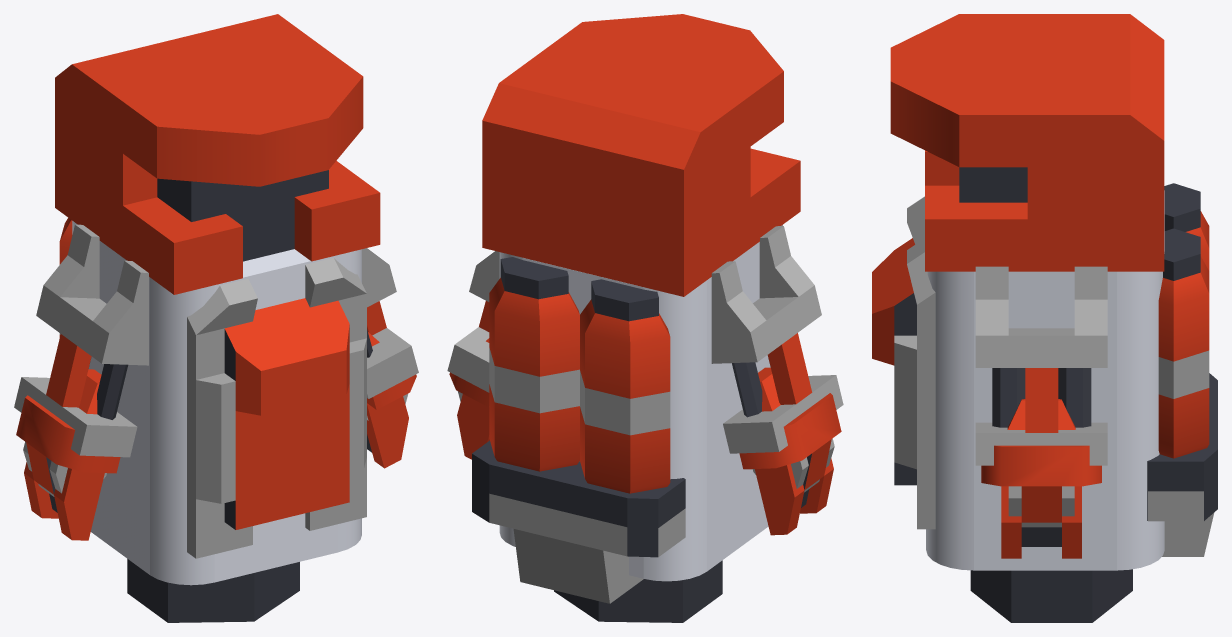
Rendered from Robot3.fbx.
The picture shows the model from 3 angles, left to right: view 1: azimuth 30°, elevation 25°; view 2: azimuth 150°, elevation 25°; view 3: azimuth 270°, elevation 25°; orthographic projection. The views are drawn at different scales.
Parts seen in each view (by area): view 1: head_knight, foot_skiLow, cylinderSquare, leg_pipes (×2), foot_double (×2), socket_large; view 2: head_knight, tank_doubleDetailed, cylinderSquare, pelvis_belt, leg_pipes (×2), foot_double (×2), socket_large; view 3: head_knight, cylinderSquare, leg_pipes, foot_skiLow, tank_doubleDetailed, foot_double, socket_large, pelvis_belt.
Part boxes in pixels (<box>): head_knight: <box>55,14,380,294</box>; foot_skiLow: <box>187,258,366,558</box>; cylinderSquare: <box>72,221,361,585</box>; leg_pipes (×2): <box>14,224,418,496</box>; foot_double (×2): <box>16,332,416,540</box>; socket_large: <box>127,559,299,622</box>; head_knight: <box>482,14,800,296</box>; tank_doubleDetailed: <box>489,257,670,493</box>; cylinderSquare: <box>499,225,782,581</box>; pelvis_belt: <box>472,440,685,603</box>; leg_pipes (×2): <box>447,226,843,492</box>; foot_double (×2): <box>449,338,841,535</box>; socket_large: <box>554,560,722,622</box>; head_knight: <box>890,14,1164,271</box>; cylinderSquare: <box>926,190,1164,570</box>; leg_pipes: <box>975,266,1107,527</box>; foot_skiLow: <box>872,196,935,529</box>; tank_doubleDetailed: <box>1158,183,1209,458</box>; foot_double: <box>981,399,1101,558</box>; socket_large: <box>970,569,1132,622</box>; pelvis_belt: <box>1147,373,1217,556</box>.
Size of the model in its own units: 0.1267 by 0.1759 by 0.1048.
